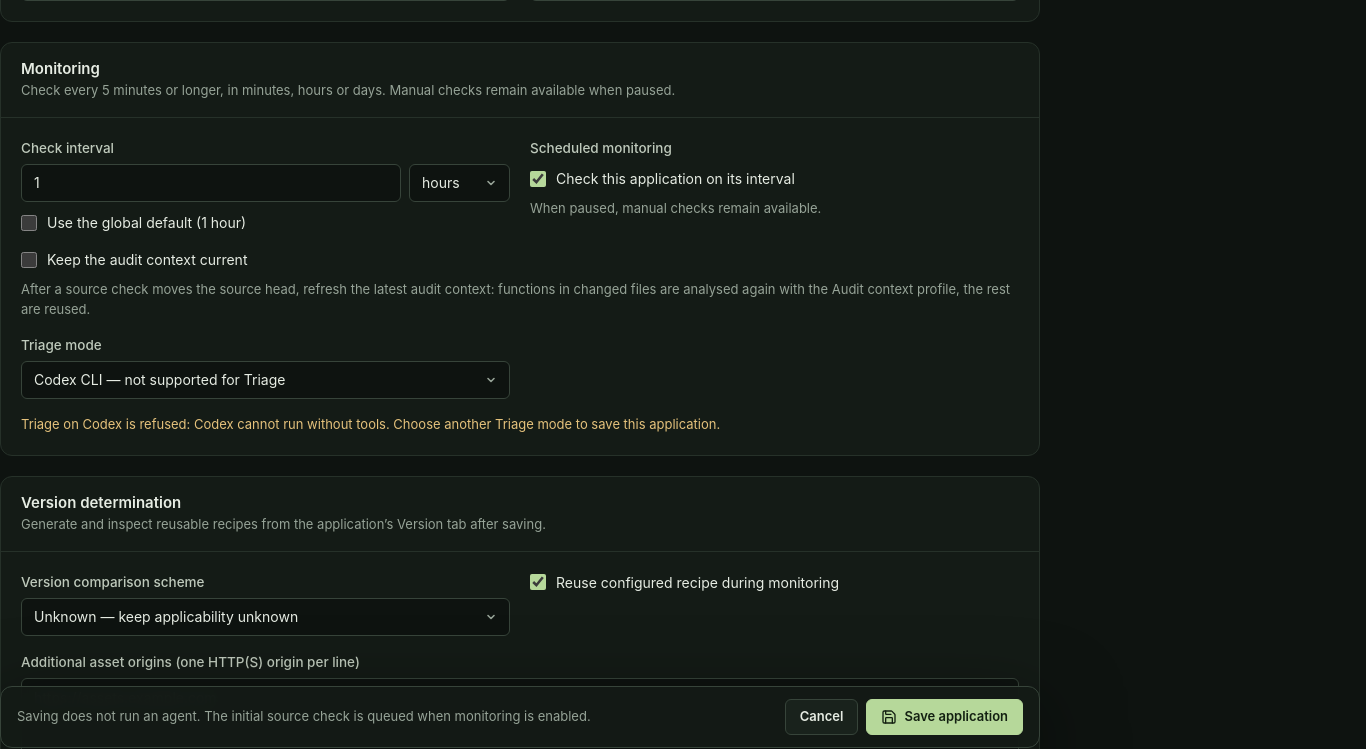
Scenario: names a stored Codex Triage mode and asks for another one
This screenshot has width=1366, height=749.
(page scrolled)
Expected: the text "Choose another Triage mode to save" is shown, [21, 416, 720, 432]
Select "Jev — typed security classification" in the dropdown labelled "Triage mode" at [266, 380], box [21, 361, 510, 399]
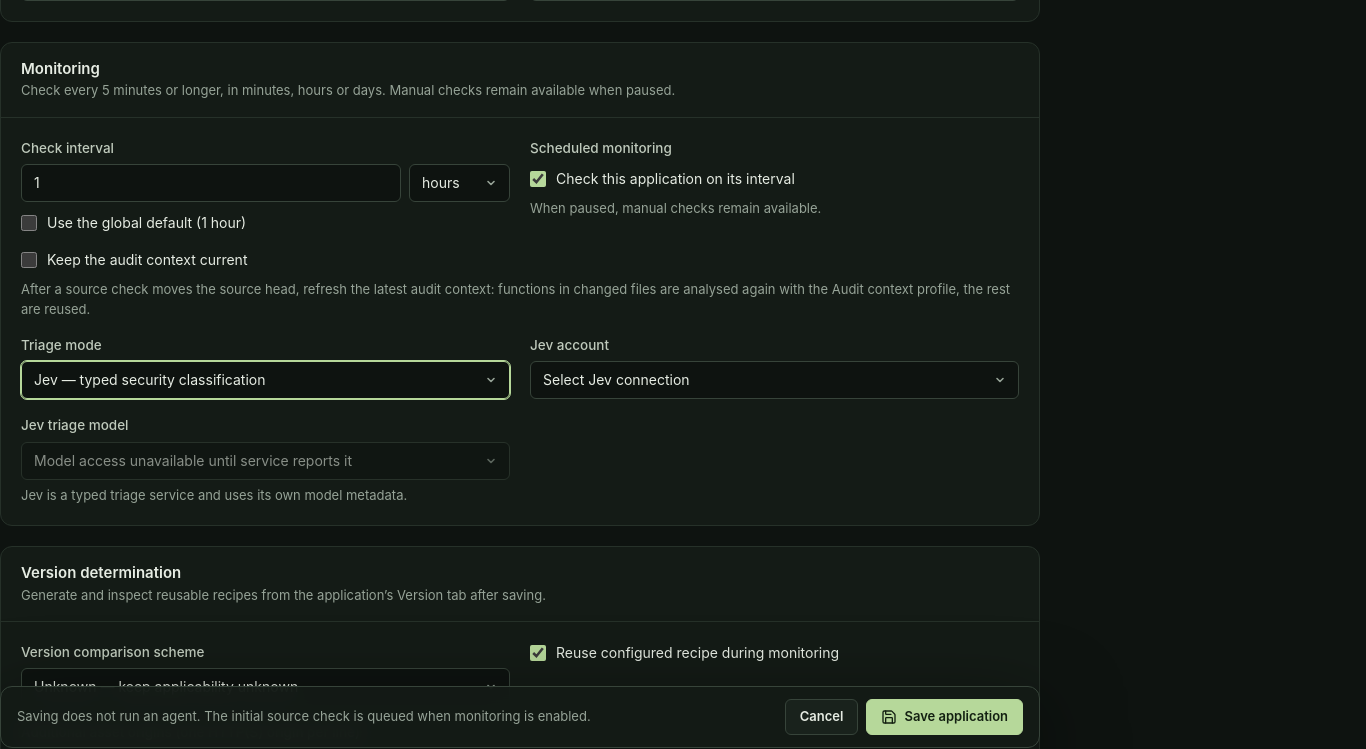
Now the text "Choose another Triage mode to save" is gone
